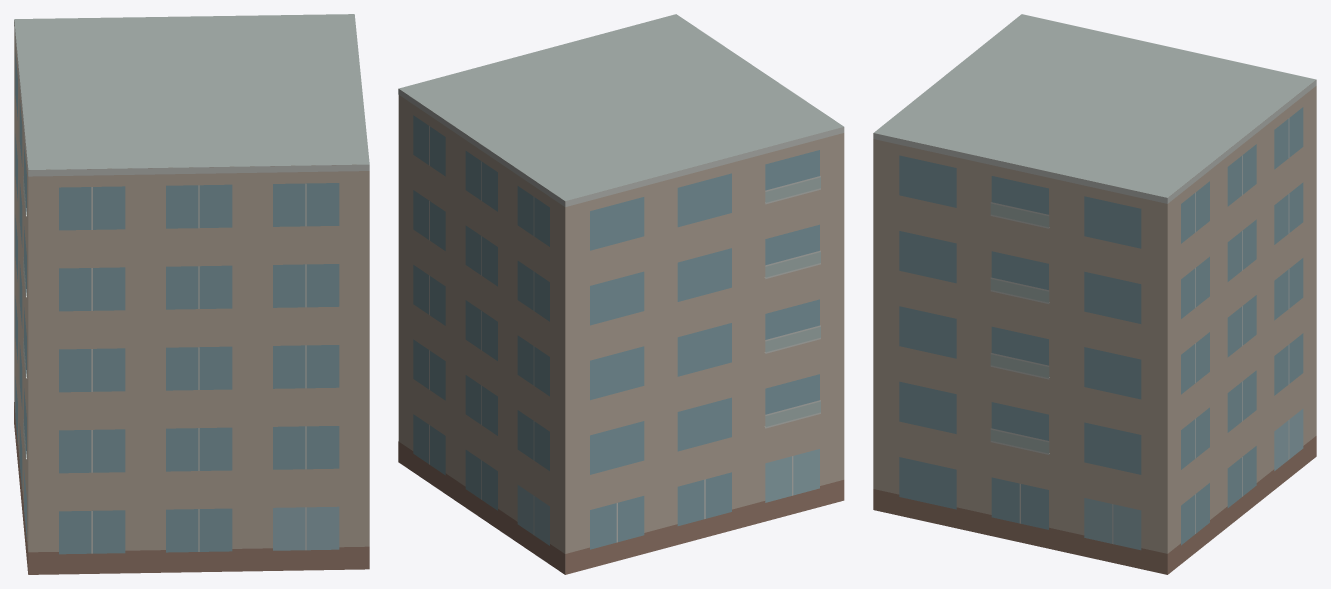
The model's file is survey-upis-32987385.glb.
3 renders of one model, left to right at view 1: azimuth 30°, elevation 25°; view 2: azimuth 150°, elevation 25°; view 3: azimuth 270°, elevation 25°, orthographic. The views are drawn at different scales.
Visible parts, largest first — view 1: survey-upis-32987385.tmp; view 2: survey-upis-32987385.tmp; view 3: survey-upis-32987385.tmp.
Part boxes in pixels (x1,y1,x2,y2): survey-upis-32987385.tmp: [14, 14, 369, 574]; survey-upis-32987385.tmp: [398, 14, 844, 574]; survey-upis-32987385.tmp: [873, 14, 1316, 574].
Bounding box in the file's own units: 15.96 × 15.25 × 16.25.
